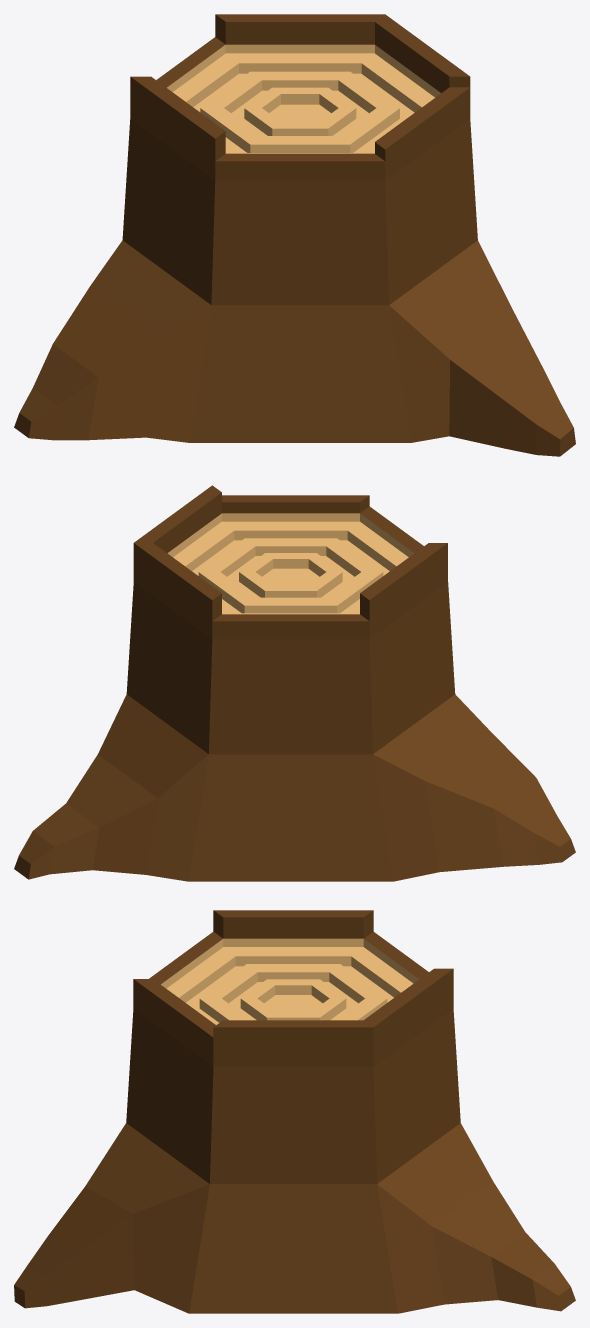
File: tronco2.fbx
The picture shows the model from 3 angles, top to bottom: view 1: azimuth 30°, elevation 25°; view 2: azimuth 150°, elevation 25°; view 3: azimuth 270°, elevation 25°; orthographic projection. The views are drawn at different scales.
Visible parts, largest first — view 1: Circle.002; view 2: Circle.002; view 3: Circle.002.
Boxes of the visible parts, bbox=[...] form: Circle.002: bbox=[14, 14, 575, 456]; Circle.002: bbox=[14, 485, 575, 881]; Circle.002: bbox=[14, 910, 575, 1313].
Bounding box in the file's own units: 4.04 × 2.53 × 4.58.
